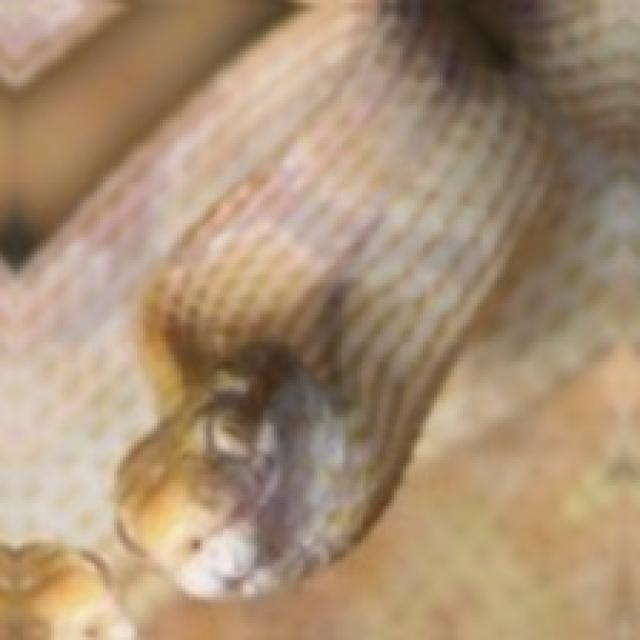dog-toothed cat snake: (0, 0, 637, 637), (177, 191, 546, 603)
